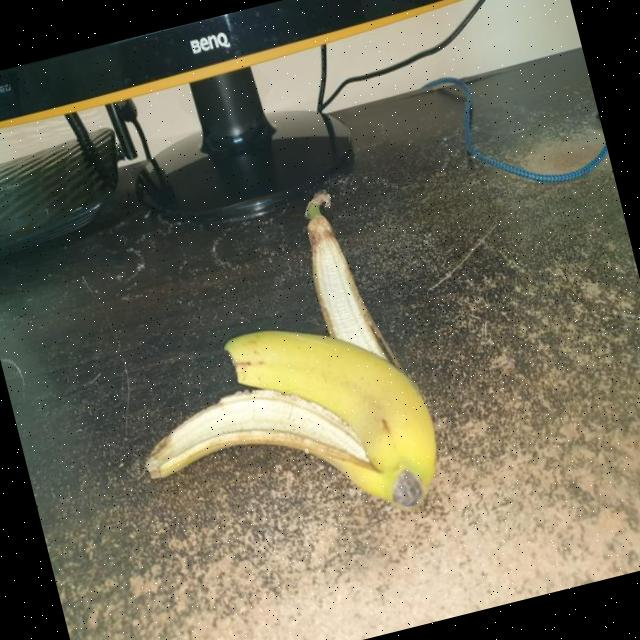banana-peel: (117, 292, 451, 568)
